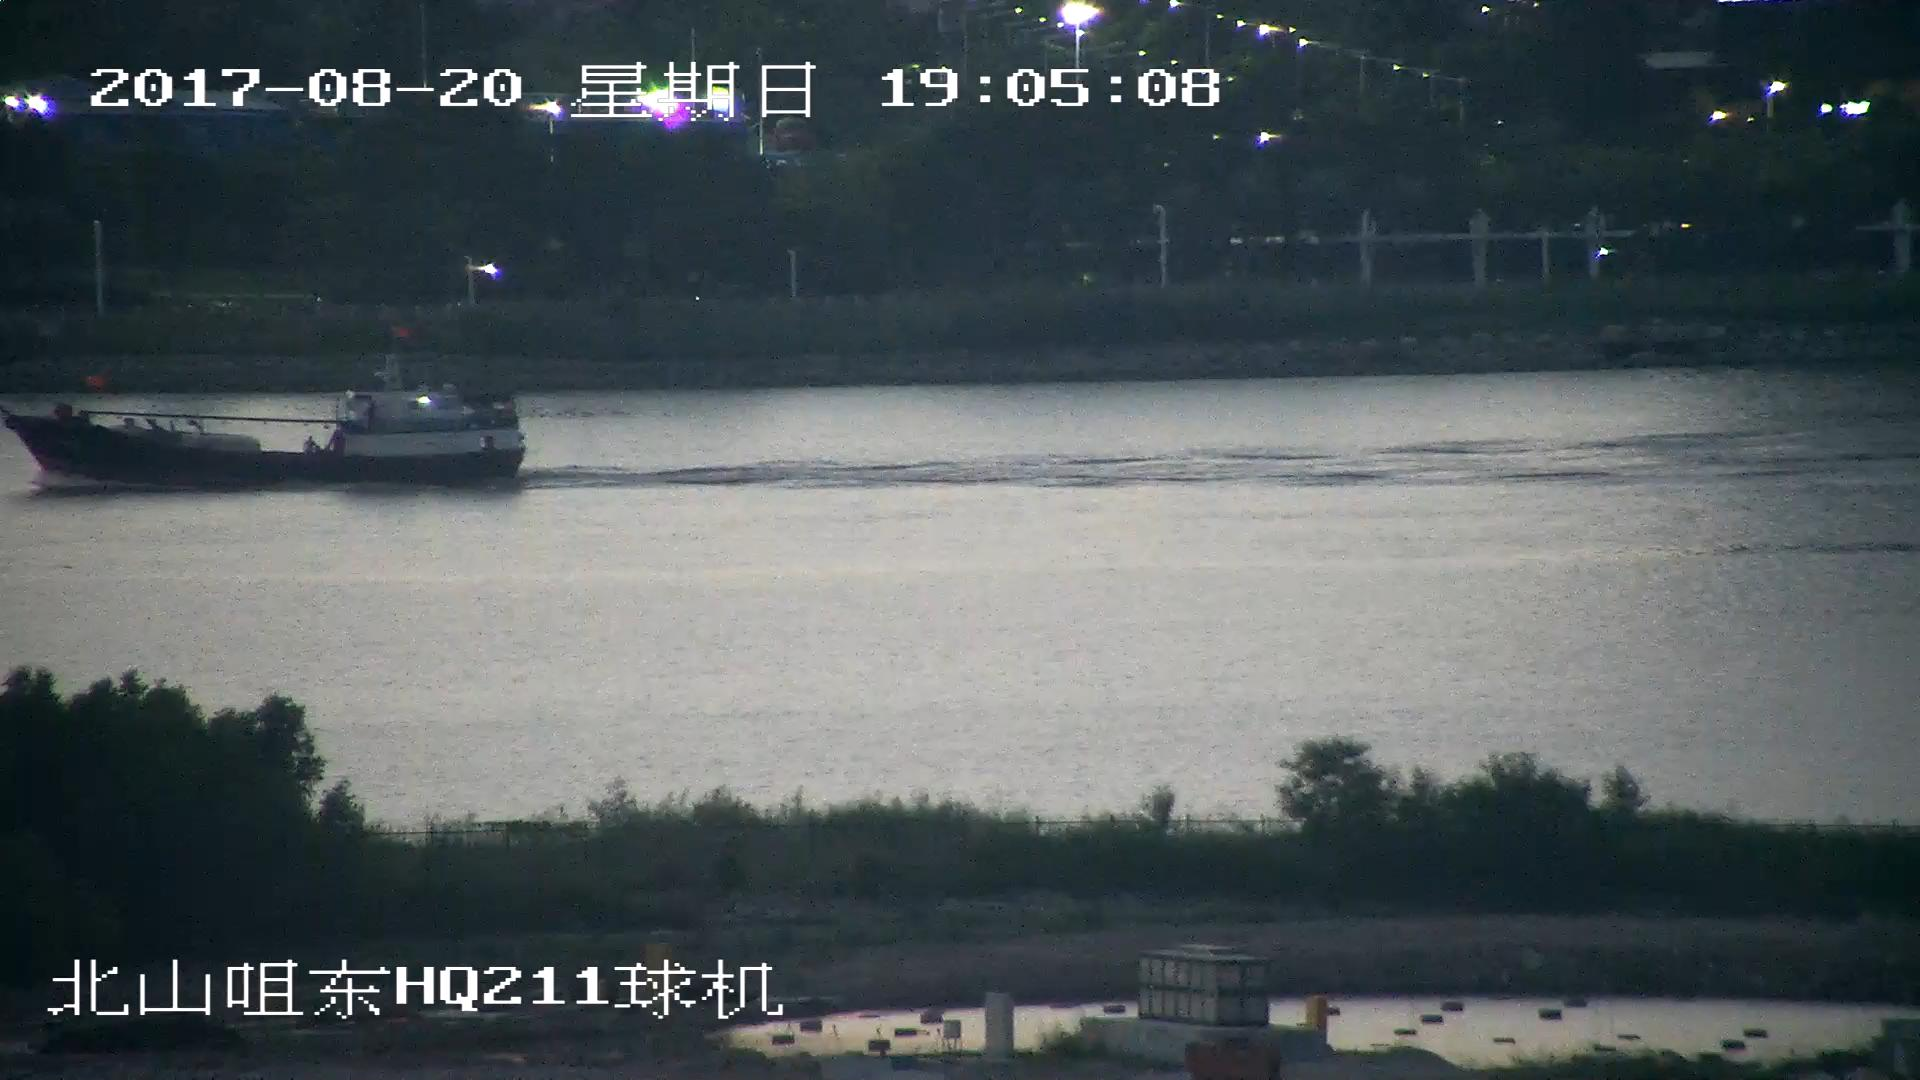fishing boat: (1, 351, 525, 487)
